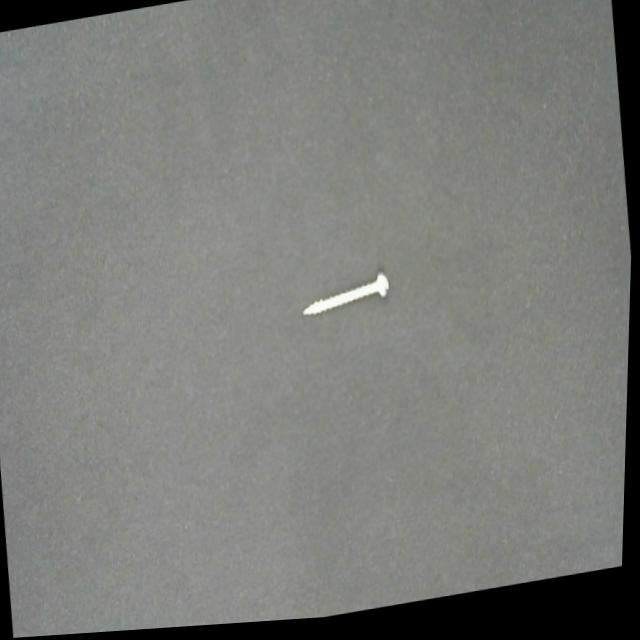SheetMetalScrew: (300, 275, 394, 324)
